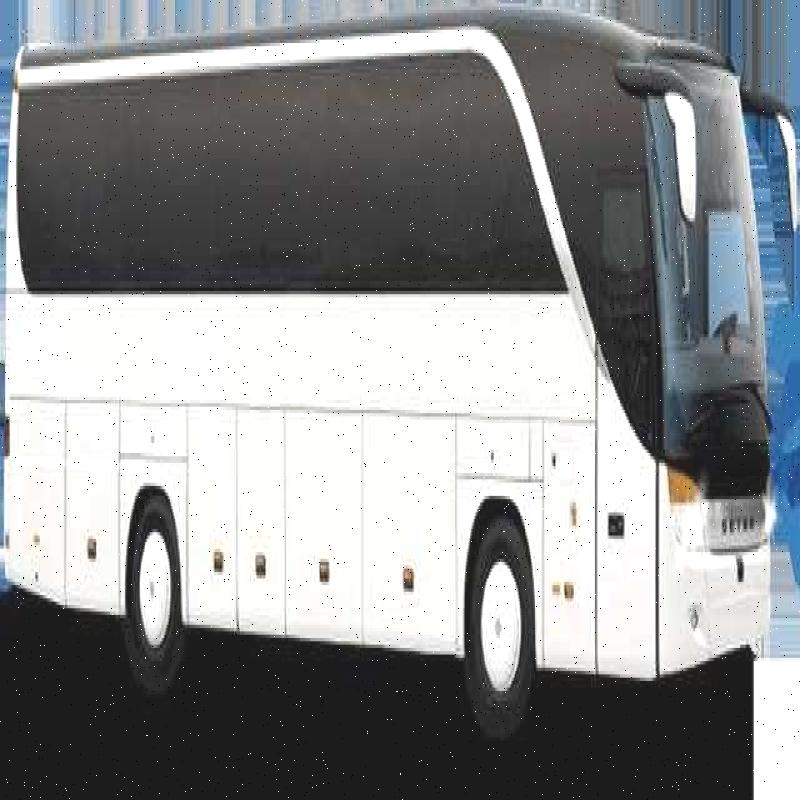bus: (0, 0, 774, 800)
